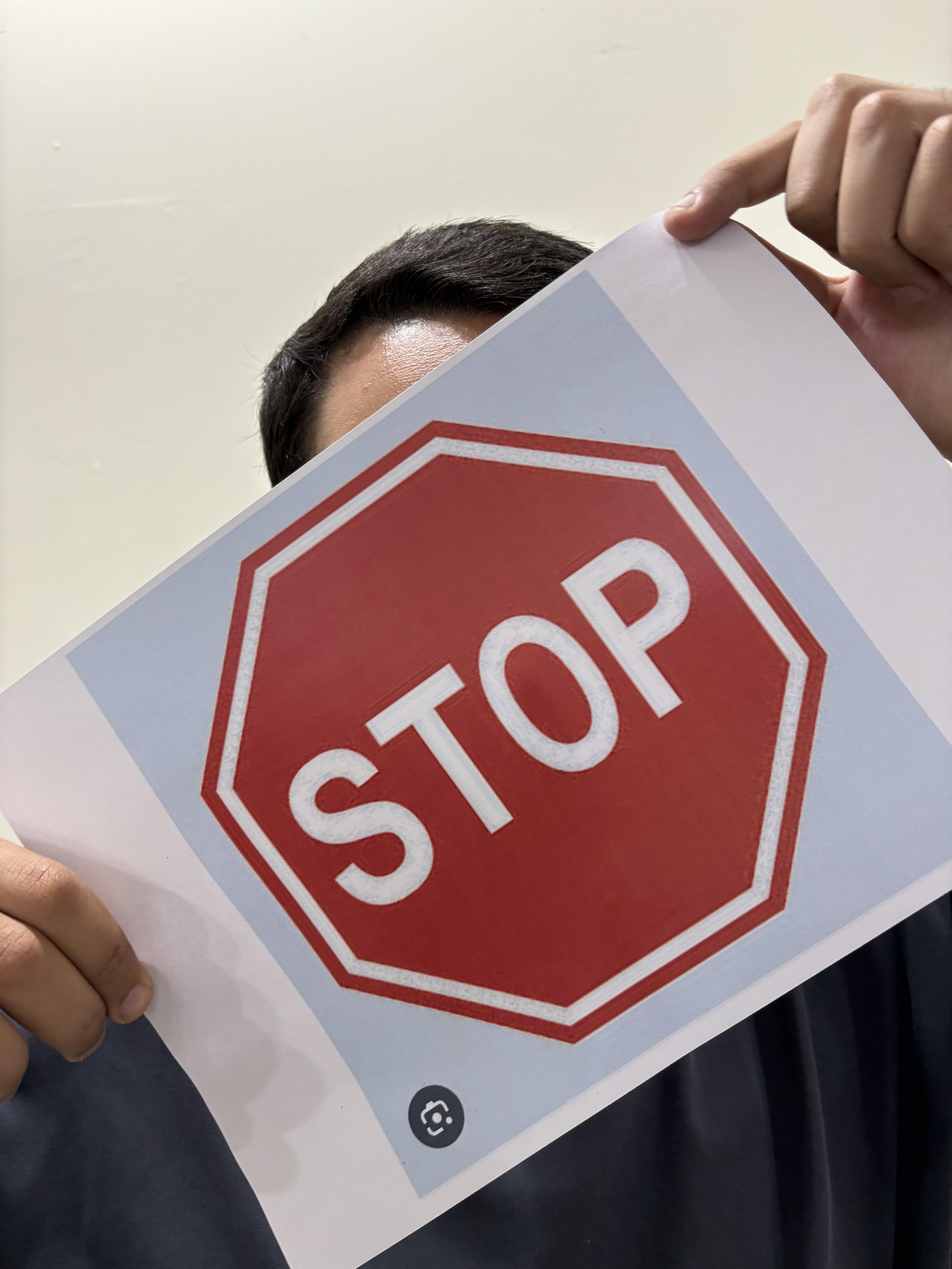Stop: (180, 420, 843, 1045)
